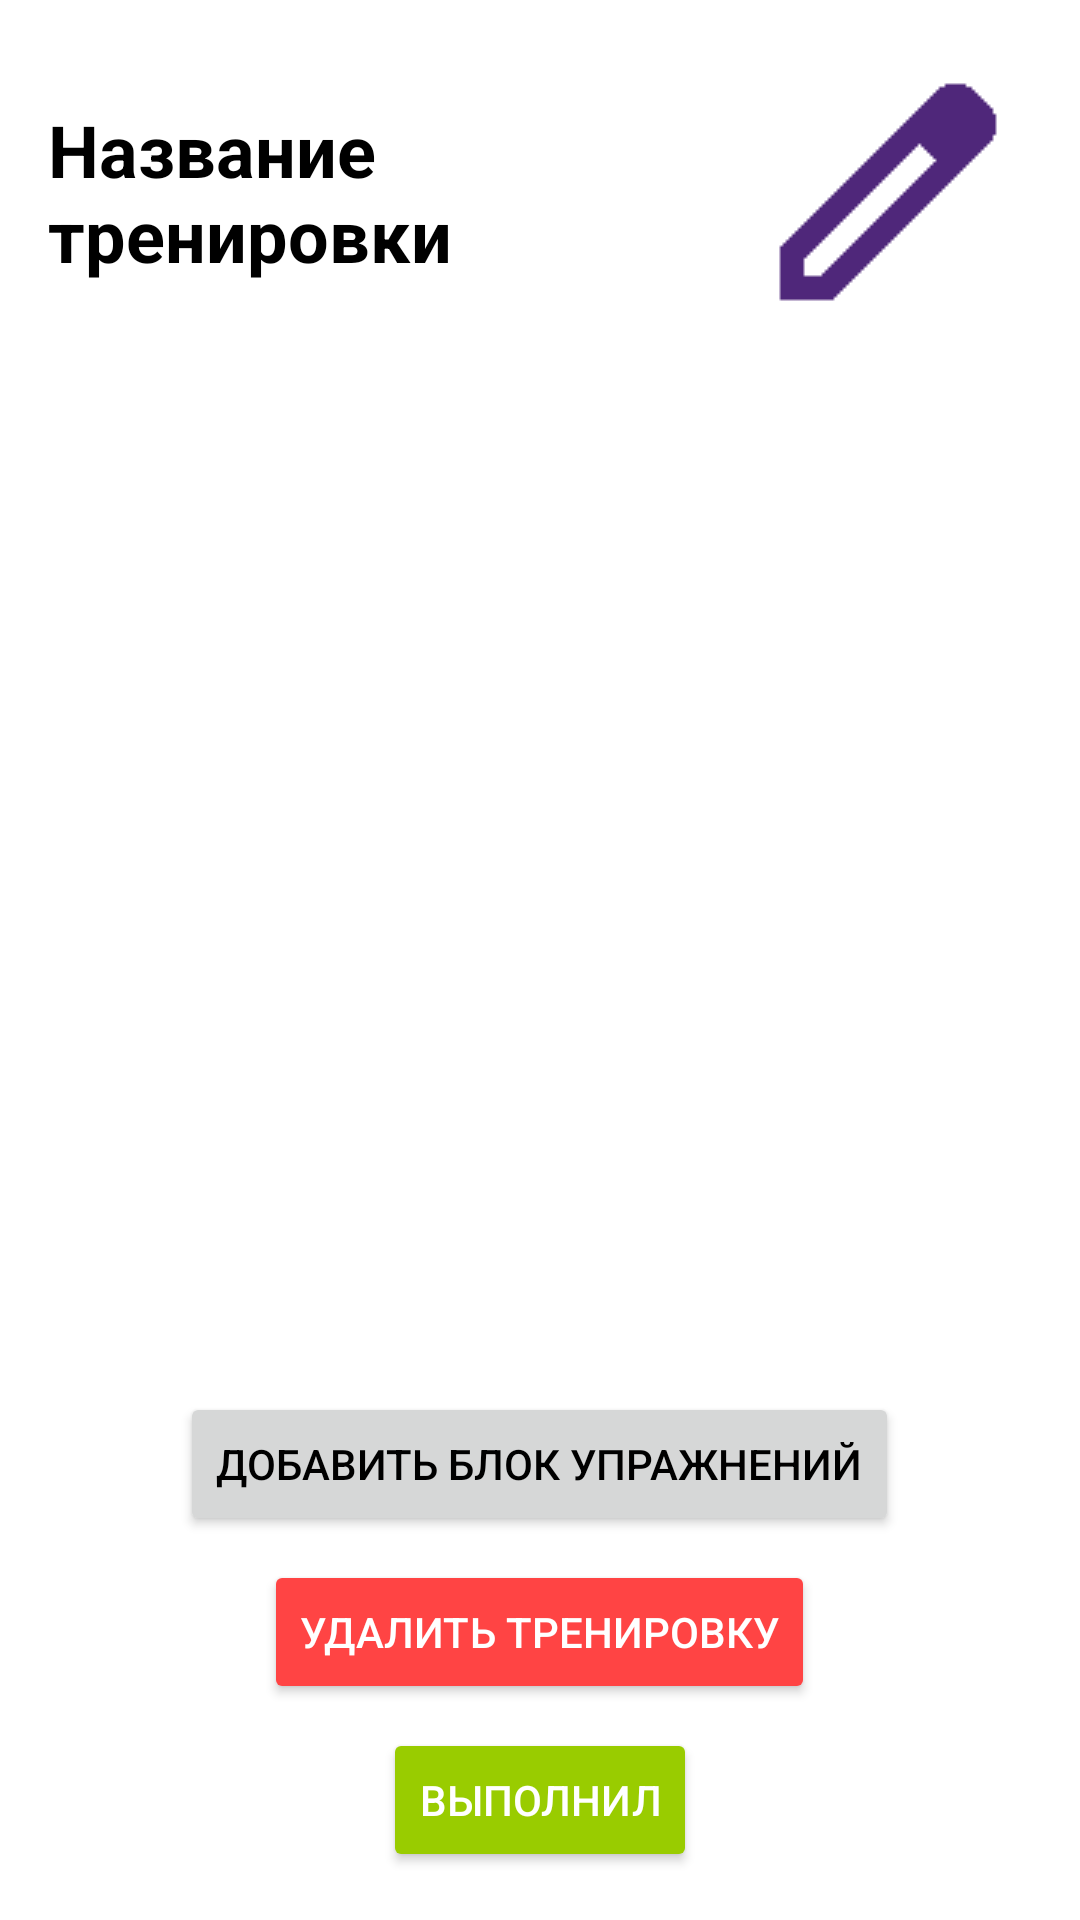

Where to tap for icons on this 1080px x 1920px app screen, as (x=x, y=y):
edit: (x=888, y=192)
